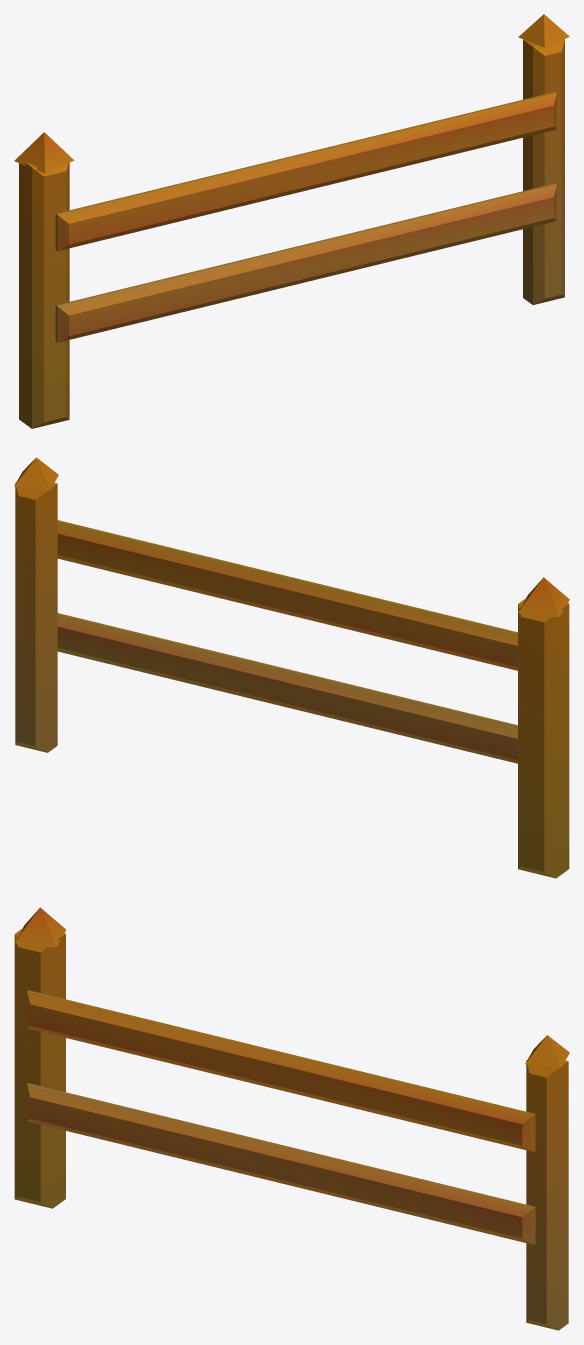
Rendered from Prop_Fence_2m.fbx.
The picture shows the model from 3 angles, top to bottom: view 1: azimuth 30°, elevation 25°; view 2: azimuth 150°, elevation 25°; view 3: azimuth 330°, elevation 25°; orthographic projection.
Visible parts, largest first — view 1: Prop_Fence_2m; view 2: Prop_Fence_2m; view 3: Prop_Fence_2m.
Part boxes in pixels (box(x1,y1,x2,y2)): Prop_Fence_2m: box(14, 14, 569, 428); Prop_Fence_2m: box(14, 457, 569, 878); Prop_Fence_2m: box(14, 907, 569, 1330).
Bounding box in the file's own units: 2.17 × 1.1 × 0.2121.
